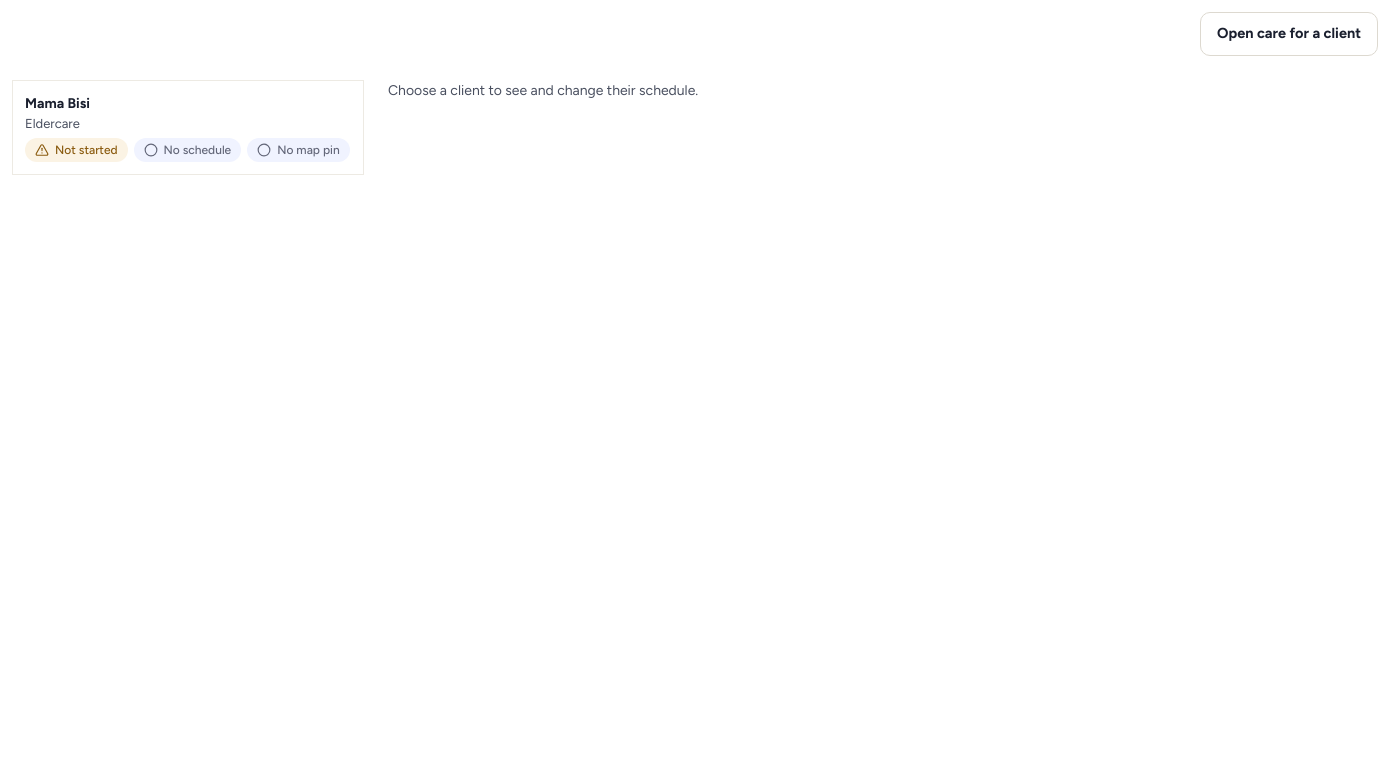
Scenario: ScheduleTab › adds a worker to the care, active from today
Later steps or results of the test are not shown.
Click the button "Mama Bisi Eldercare Not started No schedule No map pin".
click(57, 104)  # box [12,80,364,174]
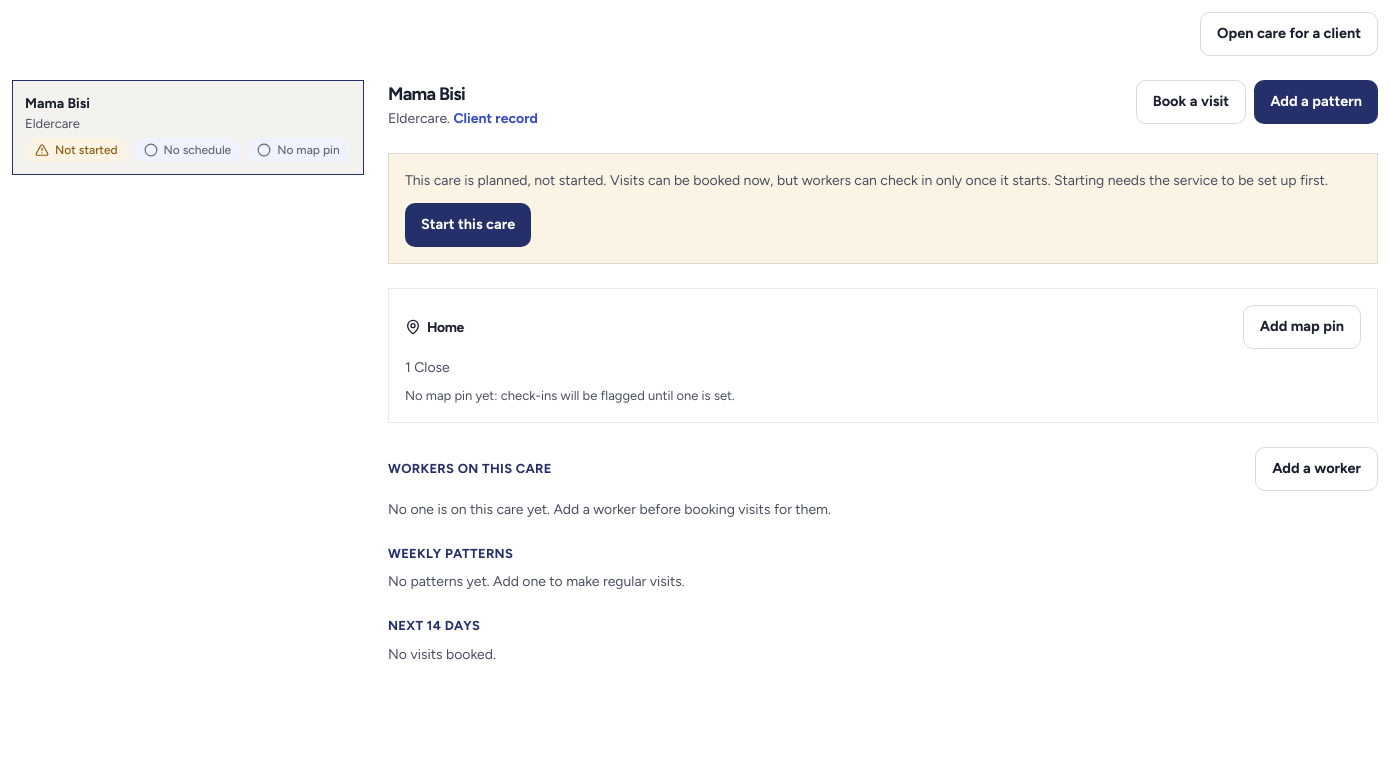
Expected: the text "This care is planned, not started" is shown, [405,172,1328,189]
